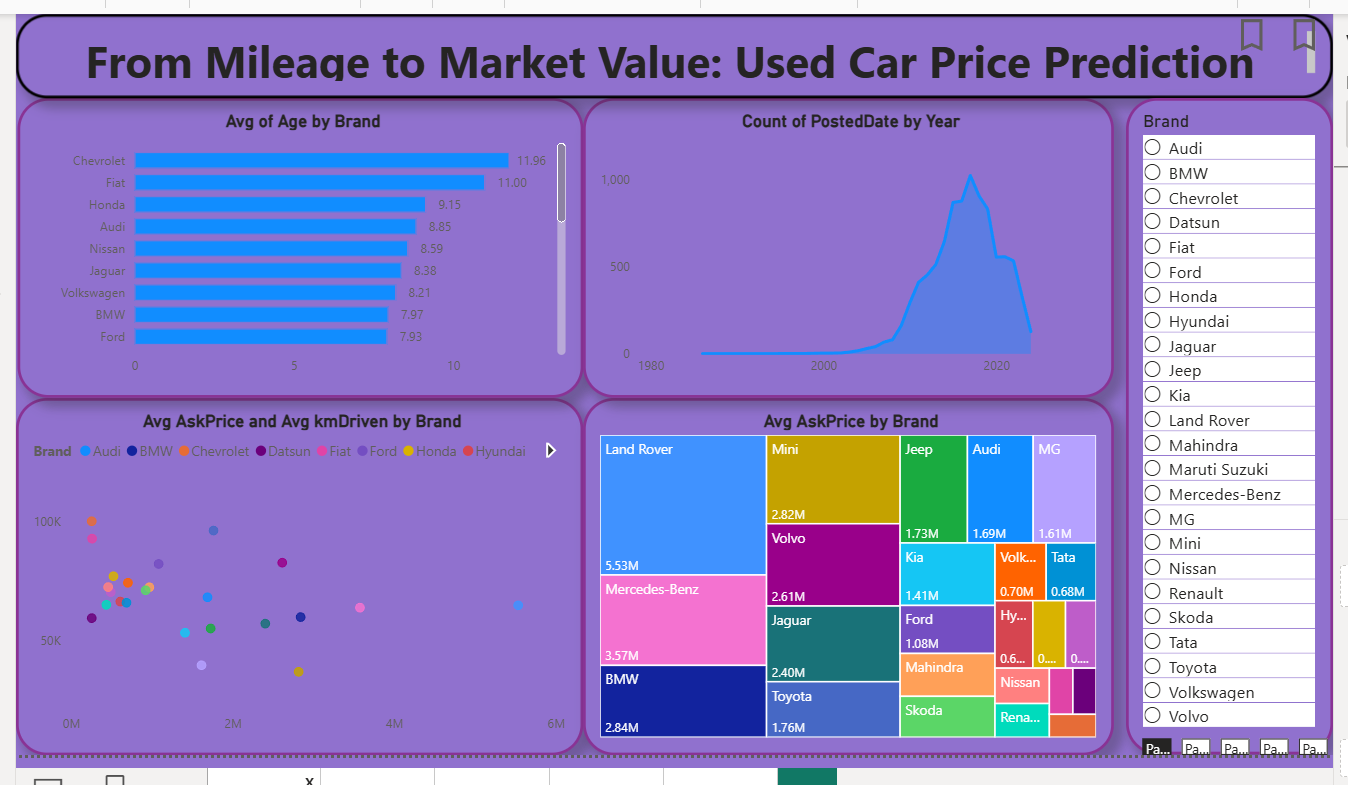

What the dashboard file says about the page in this screenshot:
{"tool":"powerbi","page":{"name":"Page 1","canvas":[1280,720],"ordinal":0},"visuals":[{"type":"scatterChart","title":"Avg AskPrice and Avg kmDriven by Brand","fields":{"X":["Avg(Table1.AskPrice)"],"Y":["Avg(Table1.kmDriven)"],"Series":["Table1.Brand"]},"box":[0,373,551,347],"z":0},{"type":"barChart","title":"Avg of Age by Brand","fields":{"Category":["Table1.Brand"],"Y":["Avg(Table1.Age)"]},"box":[1,82,550,291],"z":1000},{"type":"treemap","title":"Avg AskPrice by Brand","fields":{"Values":["Avg(Table1.AskPrice)"],"Details":["Table1.Brand"]},"box":[551,373,516,347],"z":2000},{"type":"areaChart","fields":{"Category":["Table1.Year"],"Y":["CountNonNull(Table1.PostedDate)"]},"box":[551,82,516,291],"z":3000},{"type":"textbox","box":[0,0,1280,82],"z":4000},{"type":"listSlicer","fields":{"Values":["Table1.Brand"]},"box":[1079,82,201,638],"z":5000},{"type":"actionButton","box":[1232.2,0,47,40.5],"z":9001},{"type":"actionButton","box":[1180.4,0,51.8,40.5],"z":9002},{"type":"pageNavigator","box":[1095.4,703.8,184.6,16.2],"z":9003}]}

Visuals, with their boxes on the page's 1280x720 design canvas (x1, y1, x2, y2). These are canvas units, not pixel positions in the 1348x785 screenshot, which may show the page scaled, cropped or inside an application window:
"Avg AskPrice and Avg kmDriven by Brand" scatterChart: [0, 373, 551, 720]
"Avg of Age by Brand" barChart: [1, 82, 551, 373]
"Avg AskPrice by Brand" treemap: [551, 373, 1067, 720]
areaChart - Table1.Year x CountNonNull(Table1.PostedDate): [551, 82, 1067, 373]
textbox: [0, 0, 1280, 82]
listSlicer - Table1.Brand: [1079, 82, 1280, 720]
actionButton: [1232, 0, 1279, 40]
actionButton: [1180, 0, 1232, 40]
pageNavigator: [1095, 704, 1280, 720]
